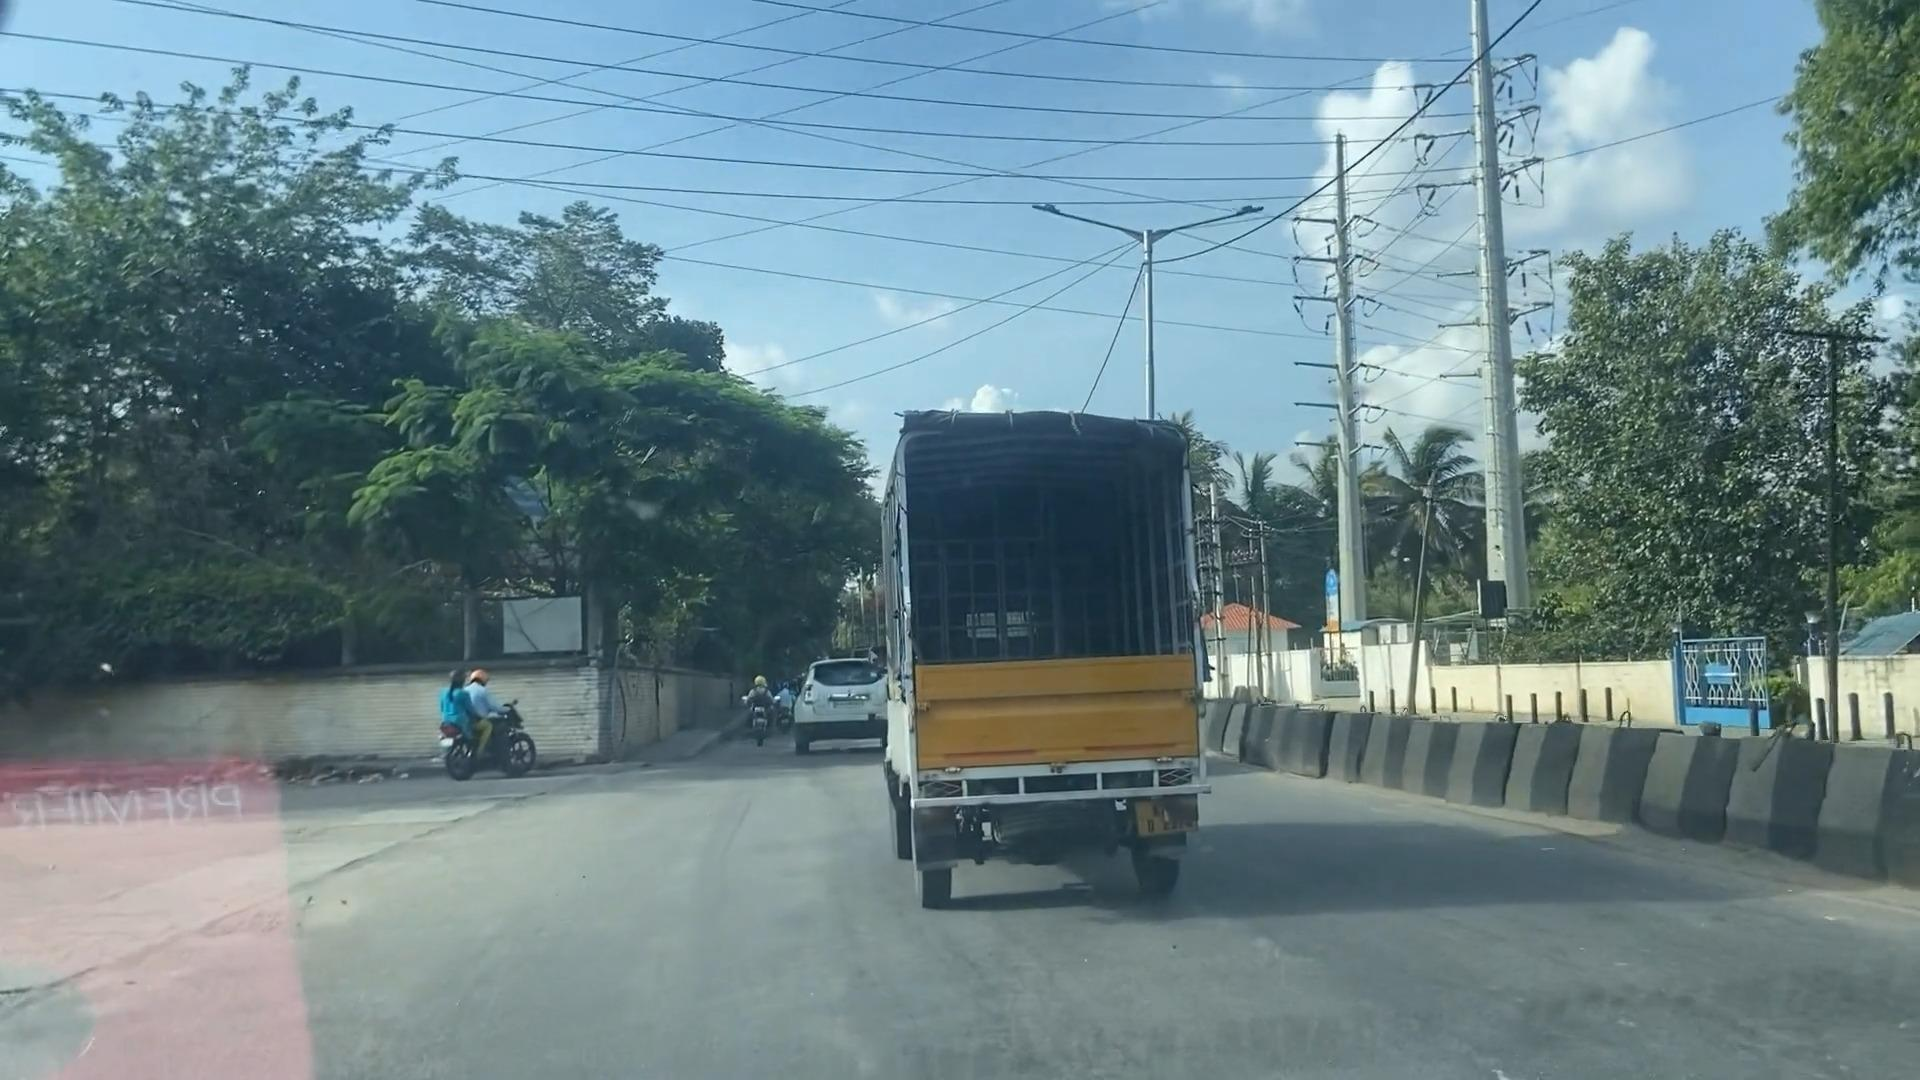HMV: (878, 402, 1199, 916)
RoadDamages: (44, 785, 537, 998)
